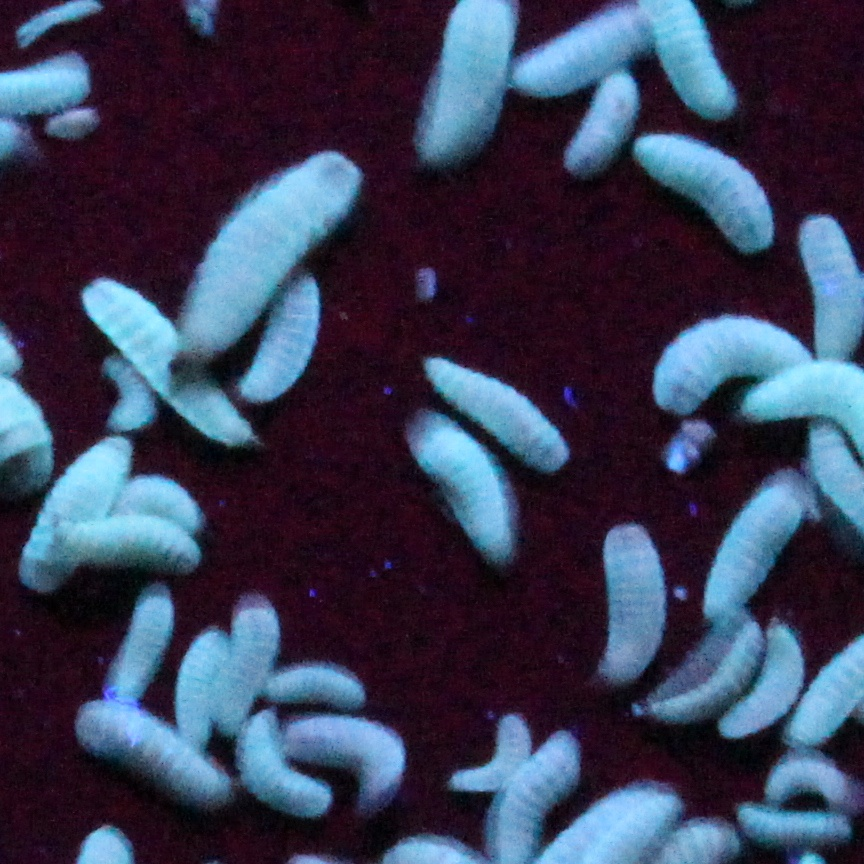larve: (173, 158, 347, 366), (82, 289, 253, 441), (2, 444, 119, 581), (402, 432, 536, 549), (87, 715, 227, 818), (642, 321, 807, 404), (436, 361, 576, 458), (702, 484, 807, 606), (630, 148, 774, 236), (645, 615, 753, 729), (522, 12, 650, 100), (593, 524, 667, 672), (247, 275, 325, 404), (719, 624, 805, 738), (107, 592, 167, 706), (445, 718, 527, 786), (19, 4, 105, 46), (179, 632, 213, 735)
